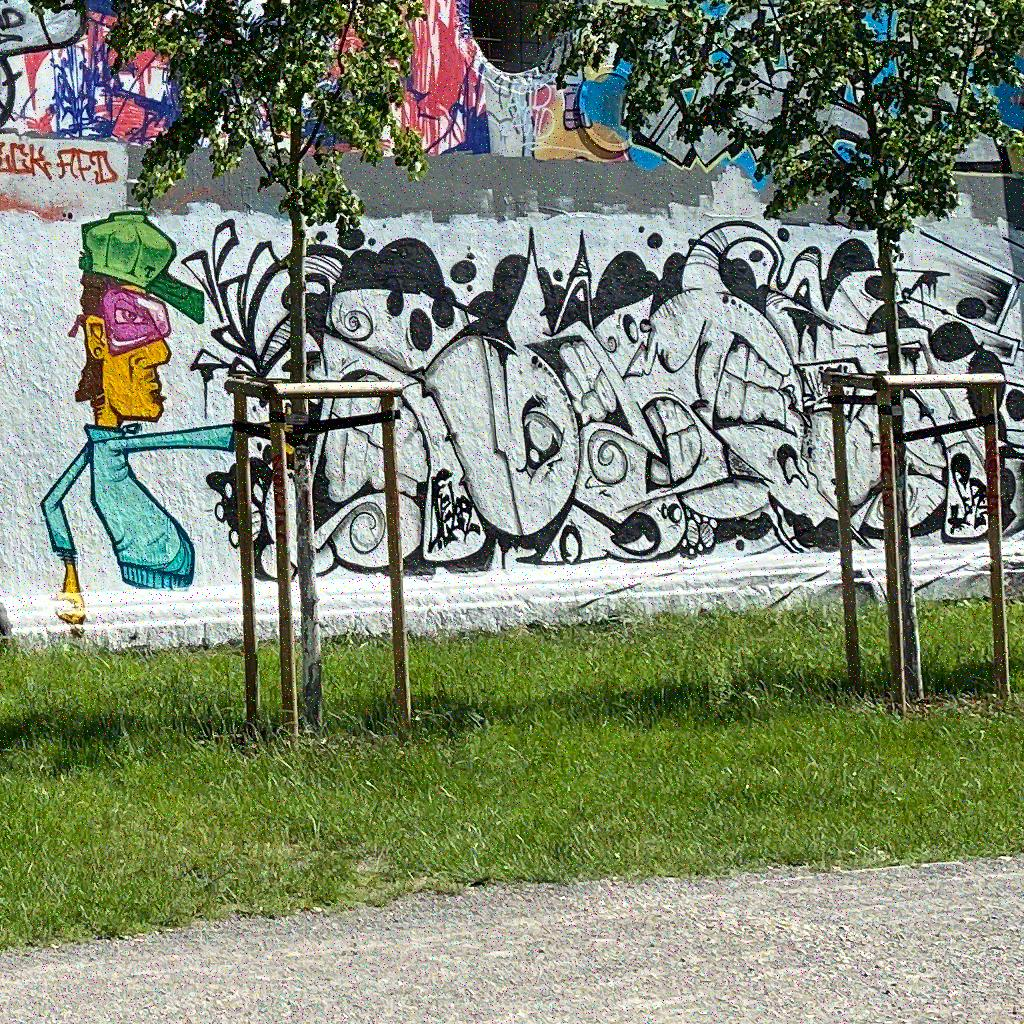tree: (541, 1, 1023, 698), (26, 1, 430, 732)
